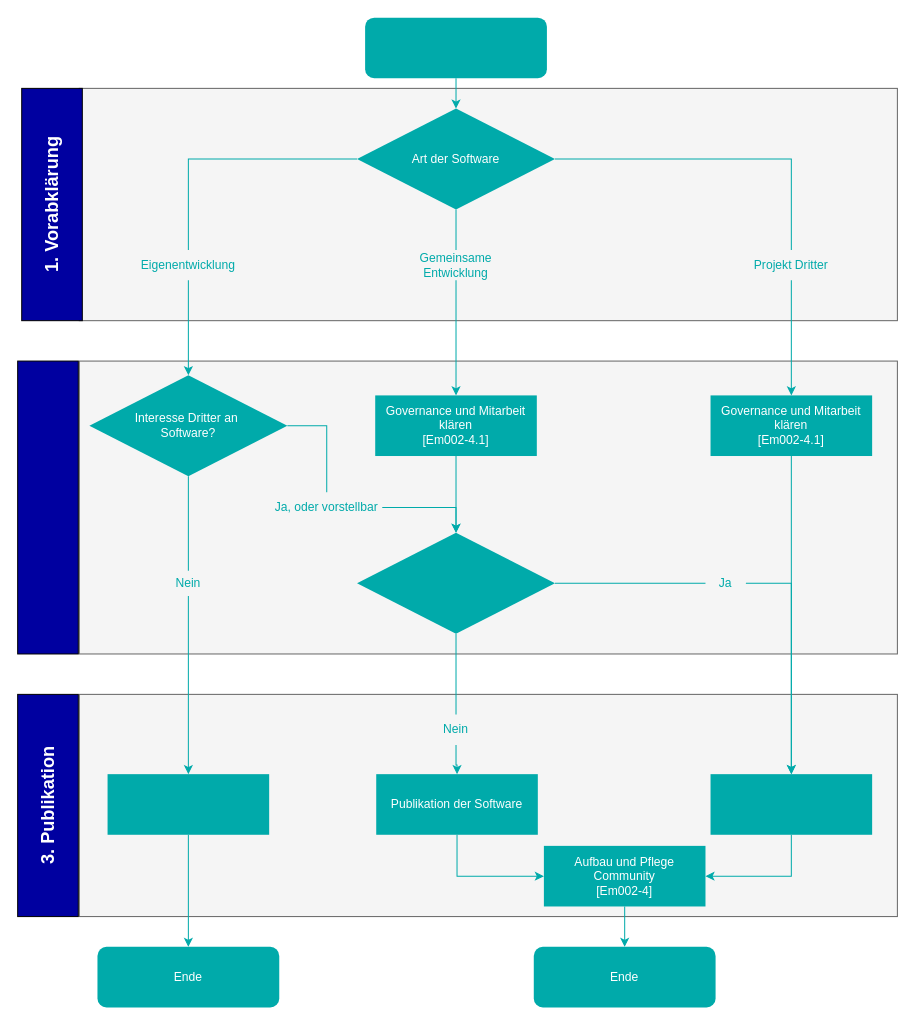
Image size: 915x1024. Some labels were removed from this diagram. Here are the shapes that lost their labels. From the top down, the centre of each, then its label:
point (455, 47): Start ab 1.1.24 entwickelt
point (47, 507): 2. Analyse und Aufbereitung
point (455, 582): Open Source Software Development ?
point (188, 804): Minimale Freigabe durchführen
point (791, 804): Open Source Software Development
